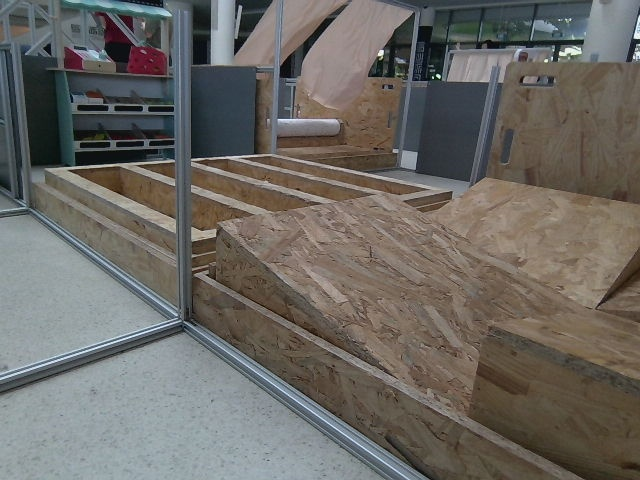curtain: (237, 0, 384, 134)
